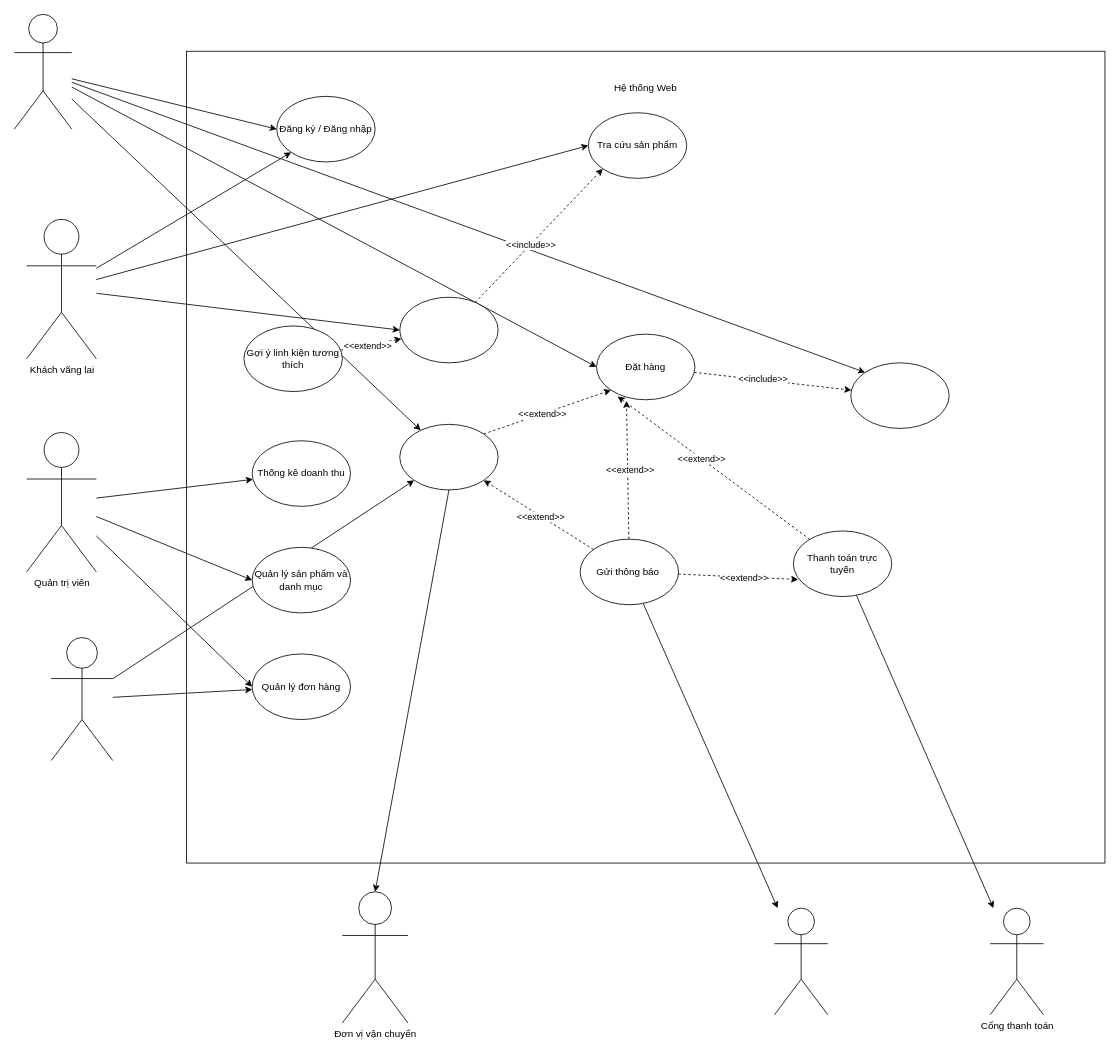
This 1119x1055 diagram has some shape labels left out. Each missing label, with the centre of its shape:
"Dịch vụ Email/SMS" goes at (x=801, y=961).
"Khách hàng" goes at (x=43, y=71).
"Nhân viên kho" goes at (x=81, y=699).
"Quản lý giỏ hàng" goes at (x=899, y=395).
"Theo dõi giao hàng" goes at (x=448, y=457).
"Xem chi tiết / So sánh sản phẩm" goes at (x=448, y=329).
